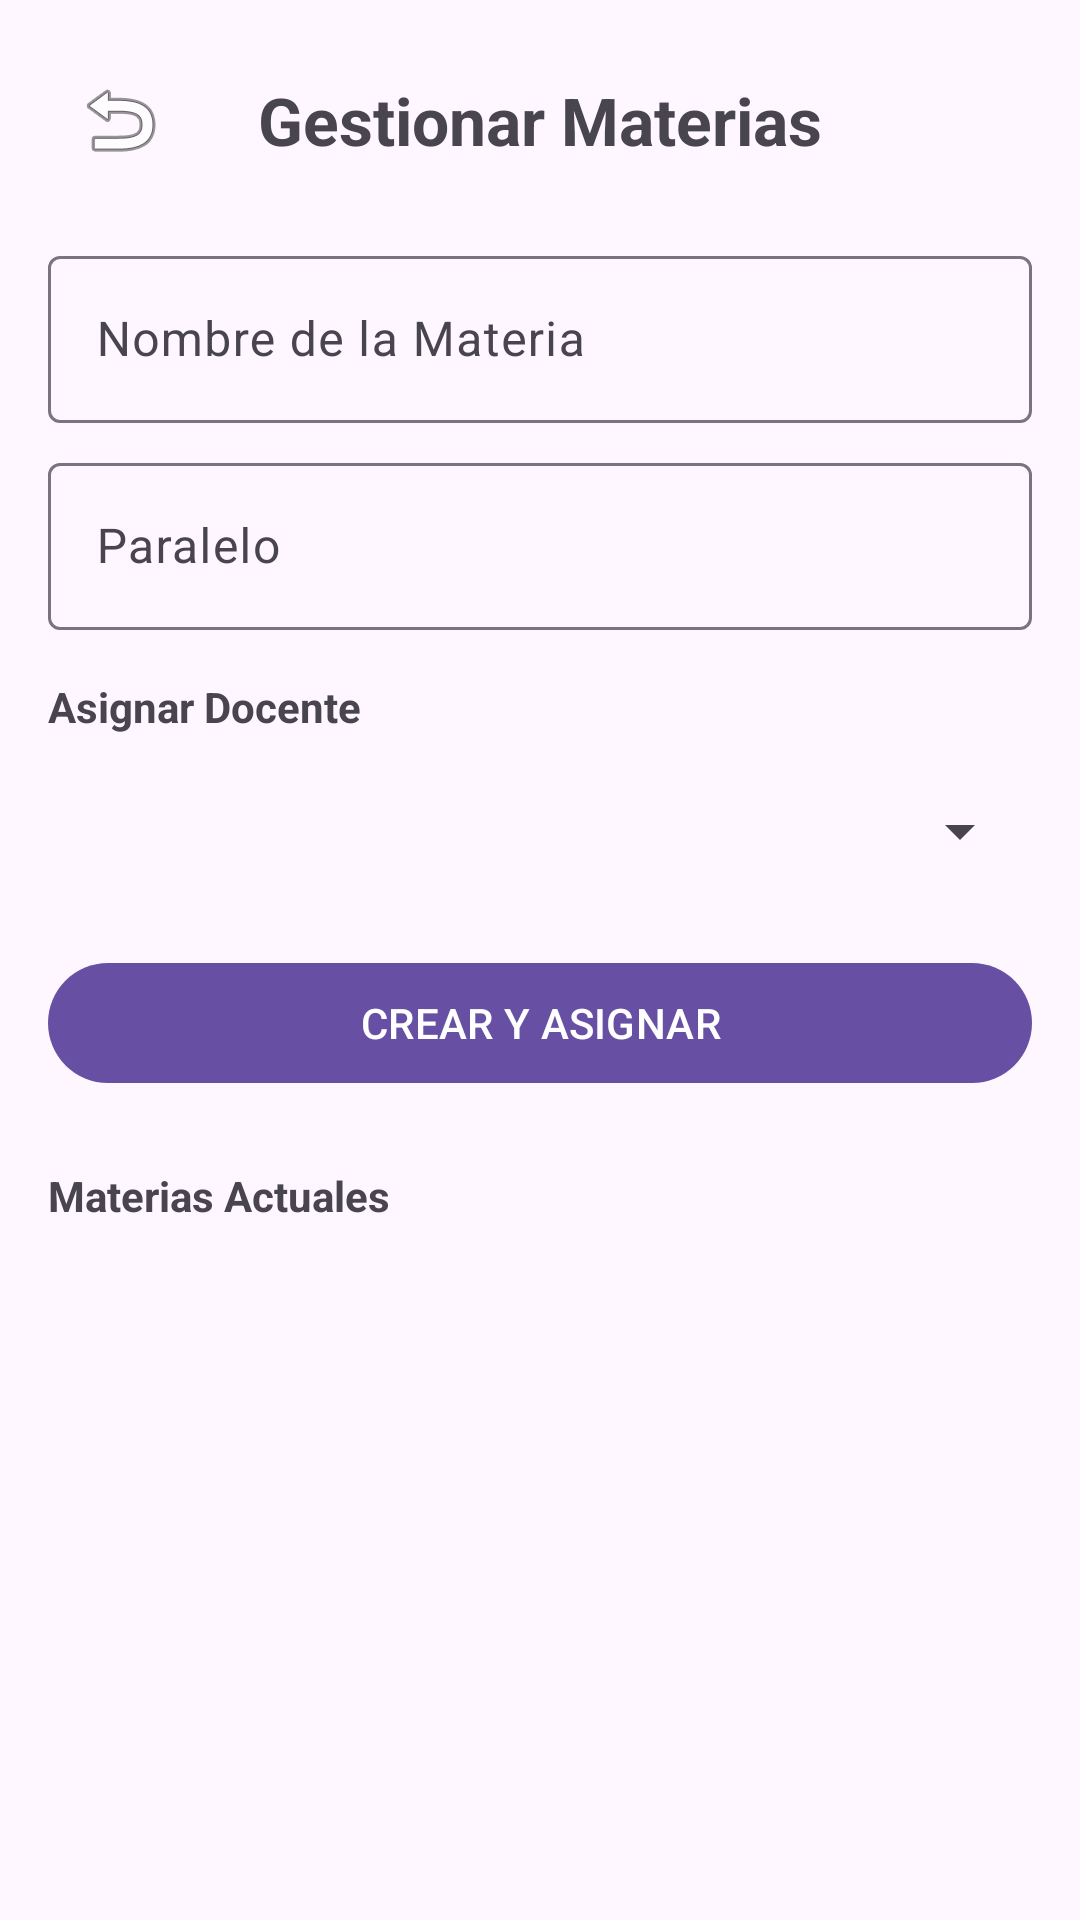

Icons on this 1080w x 1920h Android screen, each with its box as (x1, y1, x2, y2):
Atrás: (87, 89, 156, 152)
